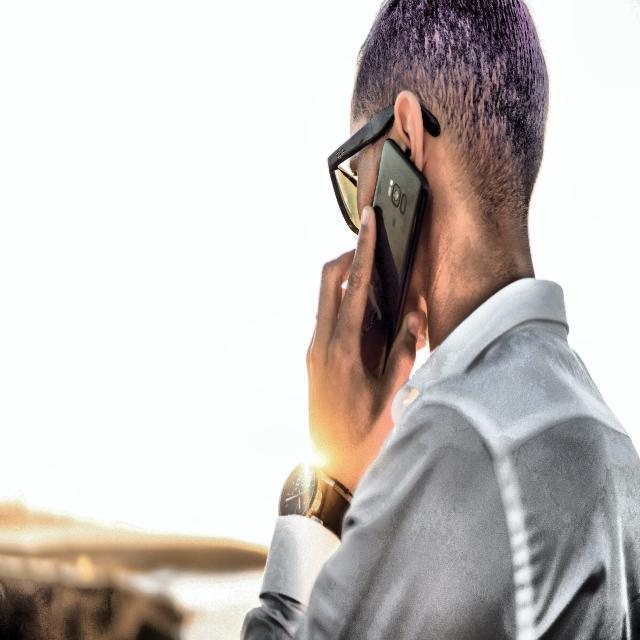Phone: (359, 132, 432, 384)
